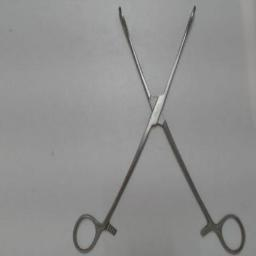Sponge Forceps: (70, 2, 250, 252)
